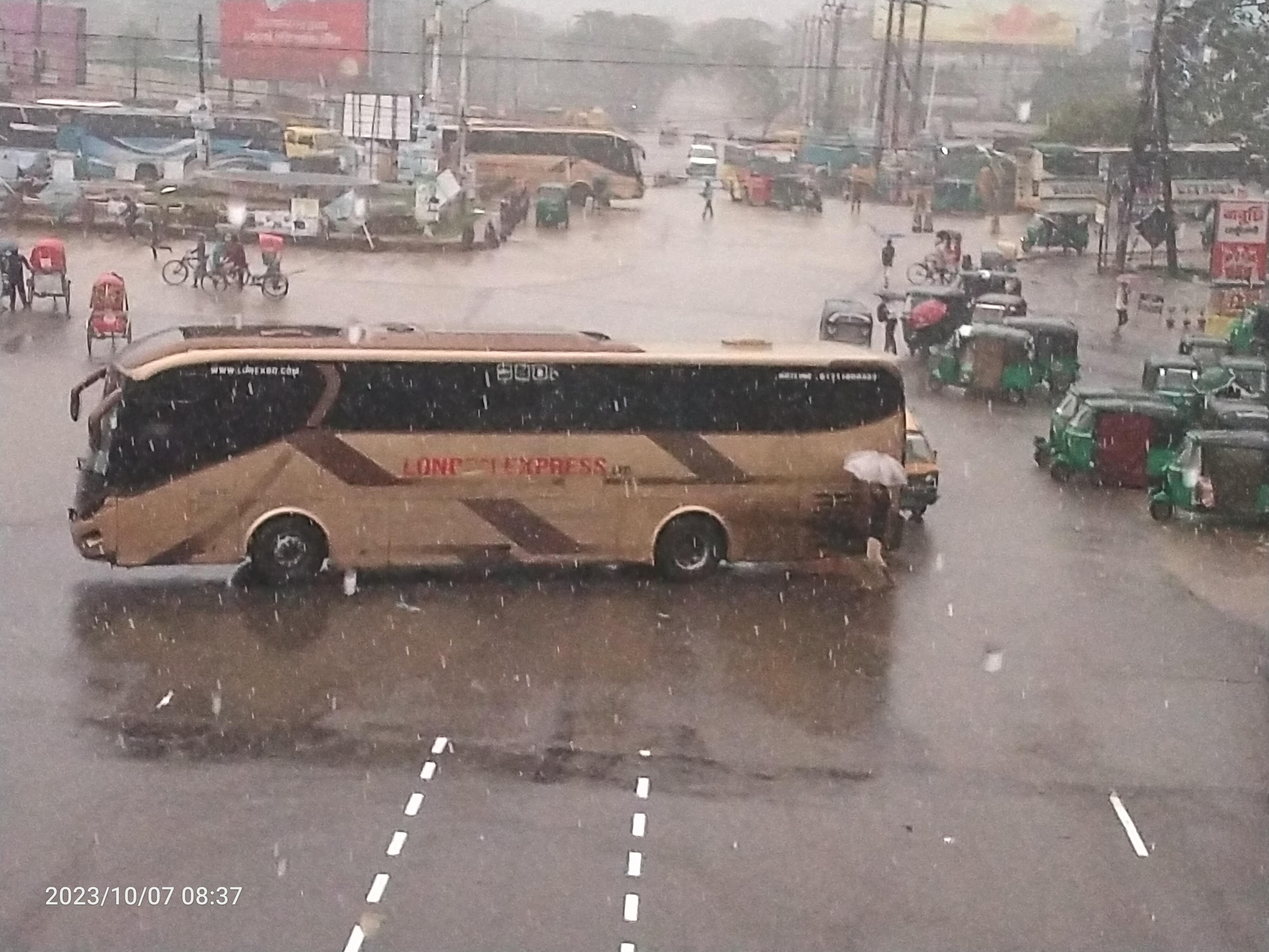Bus: (16, 313, 938, 627), (996, 128, 1269, 258), (405, 99, 669, 217), (42, 95, 298, 216), (1015, 368, 1203, 500), (1141, 417, 1269, 544), (713, 127, 816, 226), (1008, 204, 1103, 266)
Car: (159, 207, 254, 299), (80, 260, 145, 368), (213, 234, 301, 308), (14, 235, 76, 329), (666, 131, 727, 186)
Truck: (264, 99, 363, 186)
